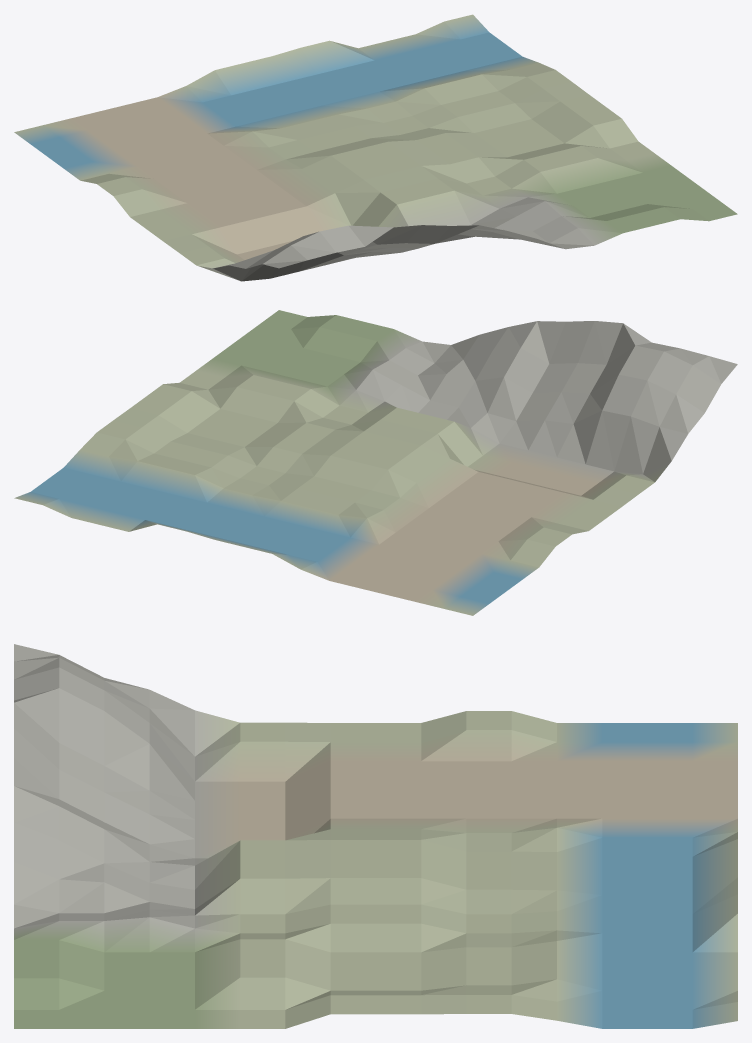
3 views of the same model, one above another, from view 1: azimuth 30°, elevation 25°; view 2: azimuth 150°, elevation 25°; view 3: azimuth 270°, elevation 25° (orthographic). The views are drawn at different scales.
Bounding box in the file's own units: 32 × 5.72 × 32.
